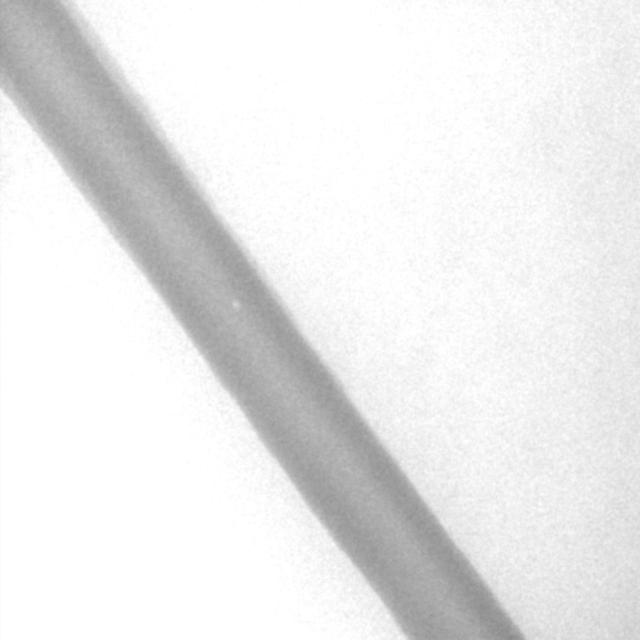air hole: (228, 296, 241, 311)
